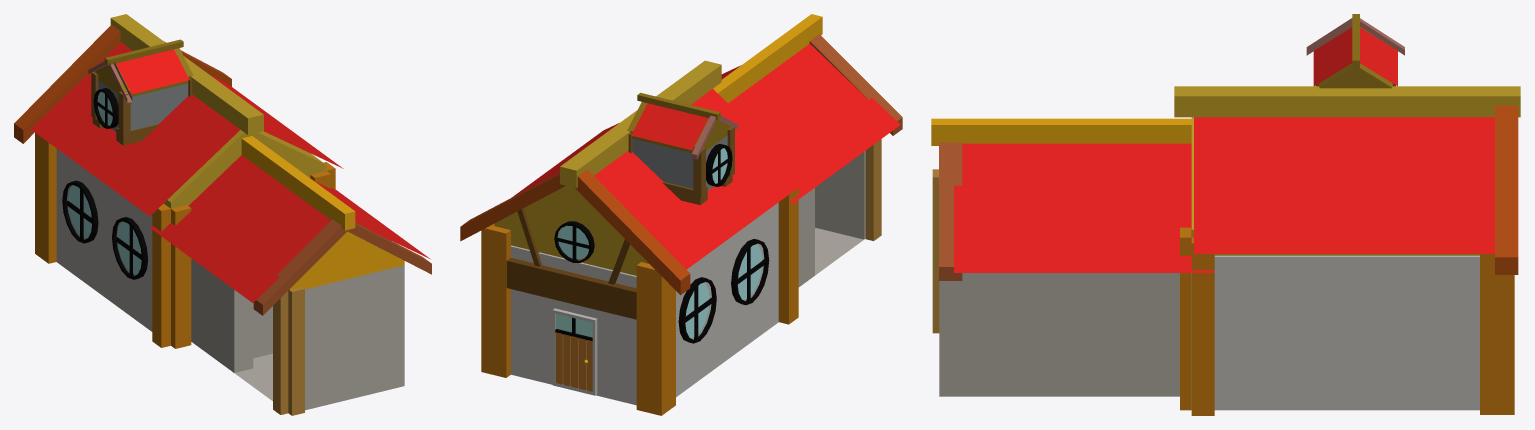
File: casa1.fbx
The picture shows the model from 3 angles, left to right: view 1: azimuth 30°, elevation 25°; view 2: azimuth 150°, elevation 25°; view 3: azimuth 270°, elevation 25°; orthographic projection. The views are drawn at different scales.
Parts seen in each view (by area): view 1: sesgundabase.001; view 2: sesgundabase.001; view 3: sesgundabase.001.
Part boxes in pixels (<box>): sesgundabase.001: <box>14,14,431,415</box>; sesgundabase.001: <box>460,14,902,415</box>; sesgundabase.001: <box>931,14,1520,415</box>.
Bounding box in the file's own units: 394 × 430 × 764.
